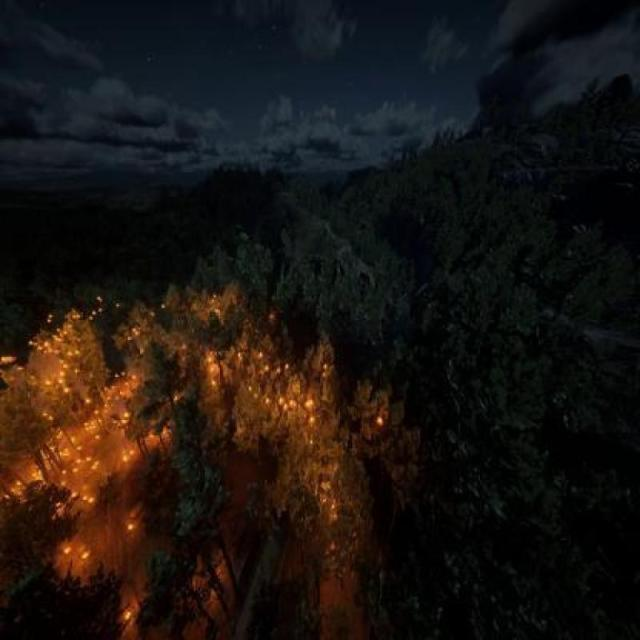Smoke: (0, 295, 398, 640)
